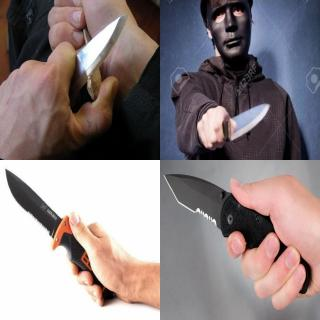knife: (162, 169, 280, 266), (3, 164, 89, 278), (56, 10, 130, 111), (202, 100, 274, 150)
